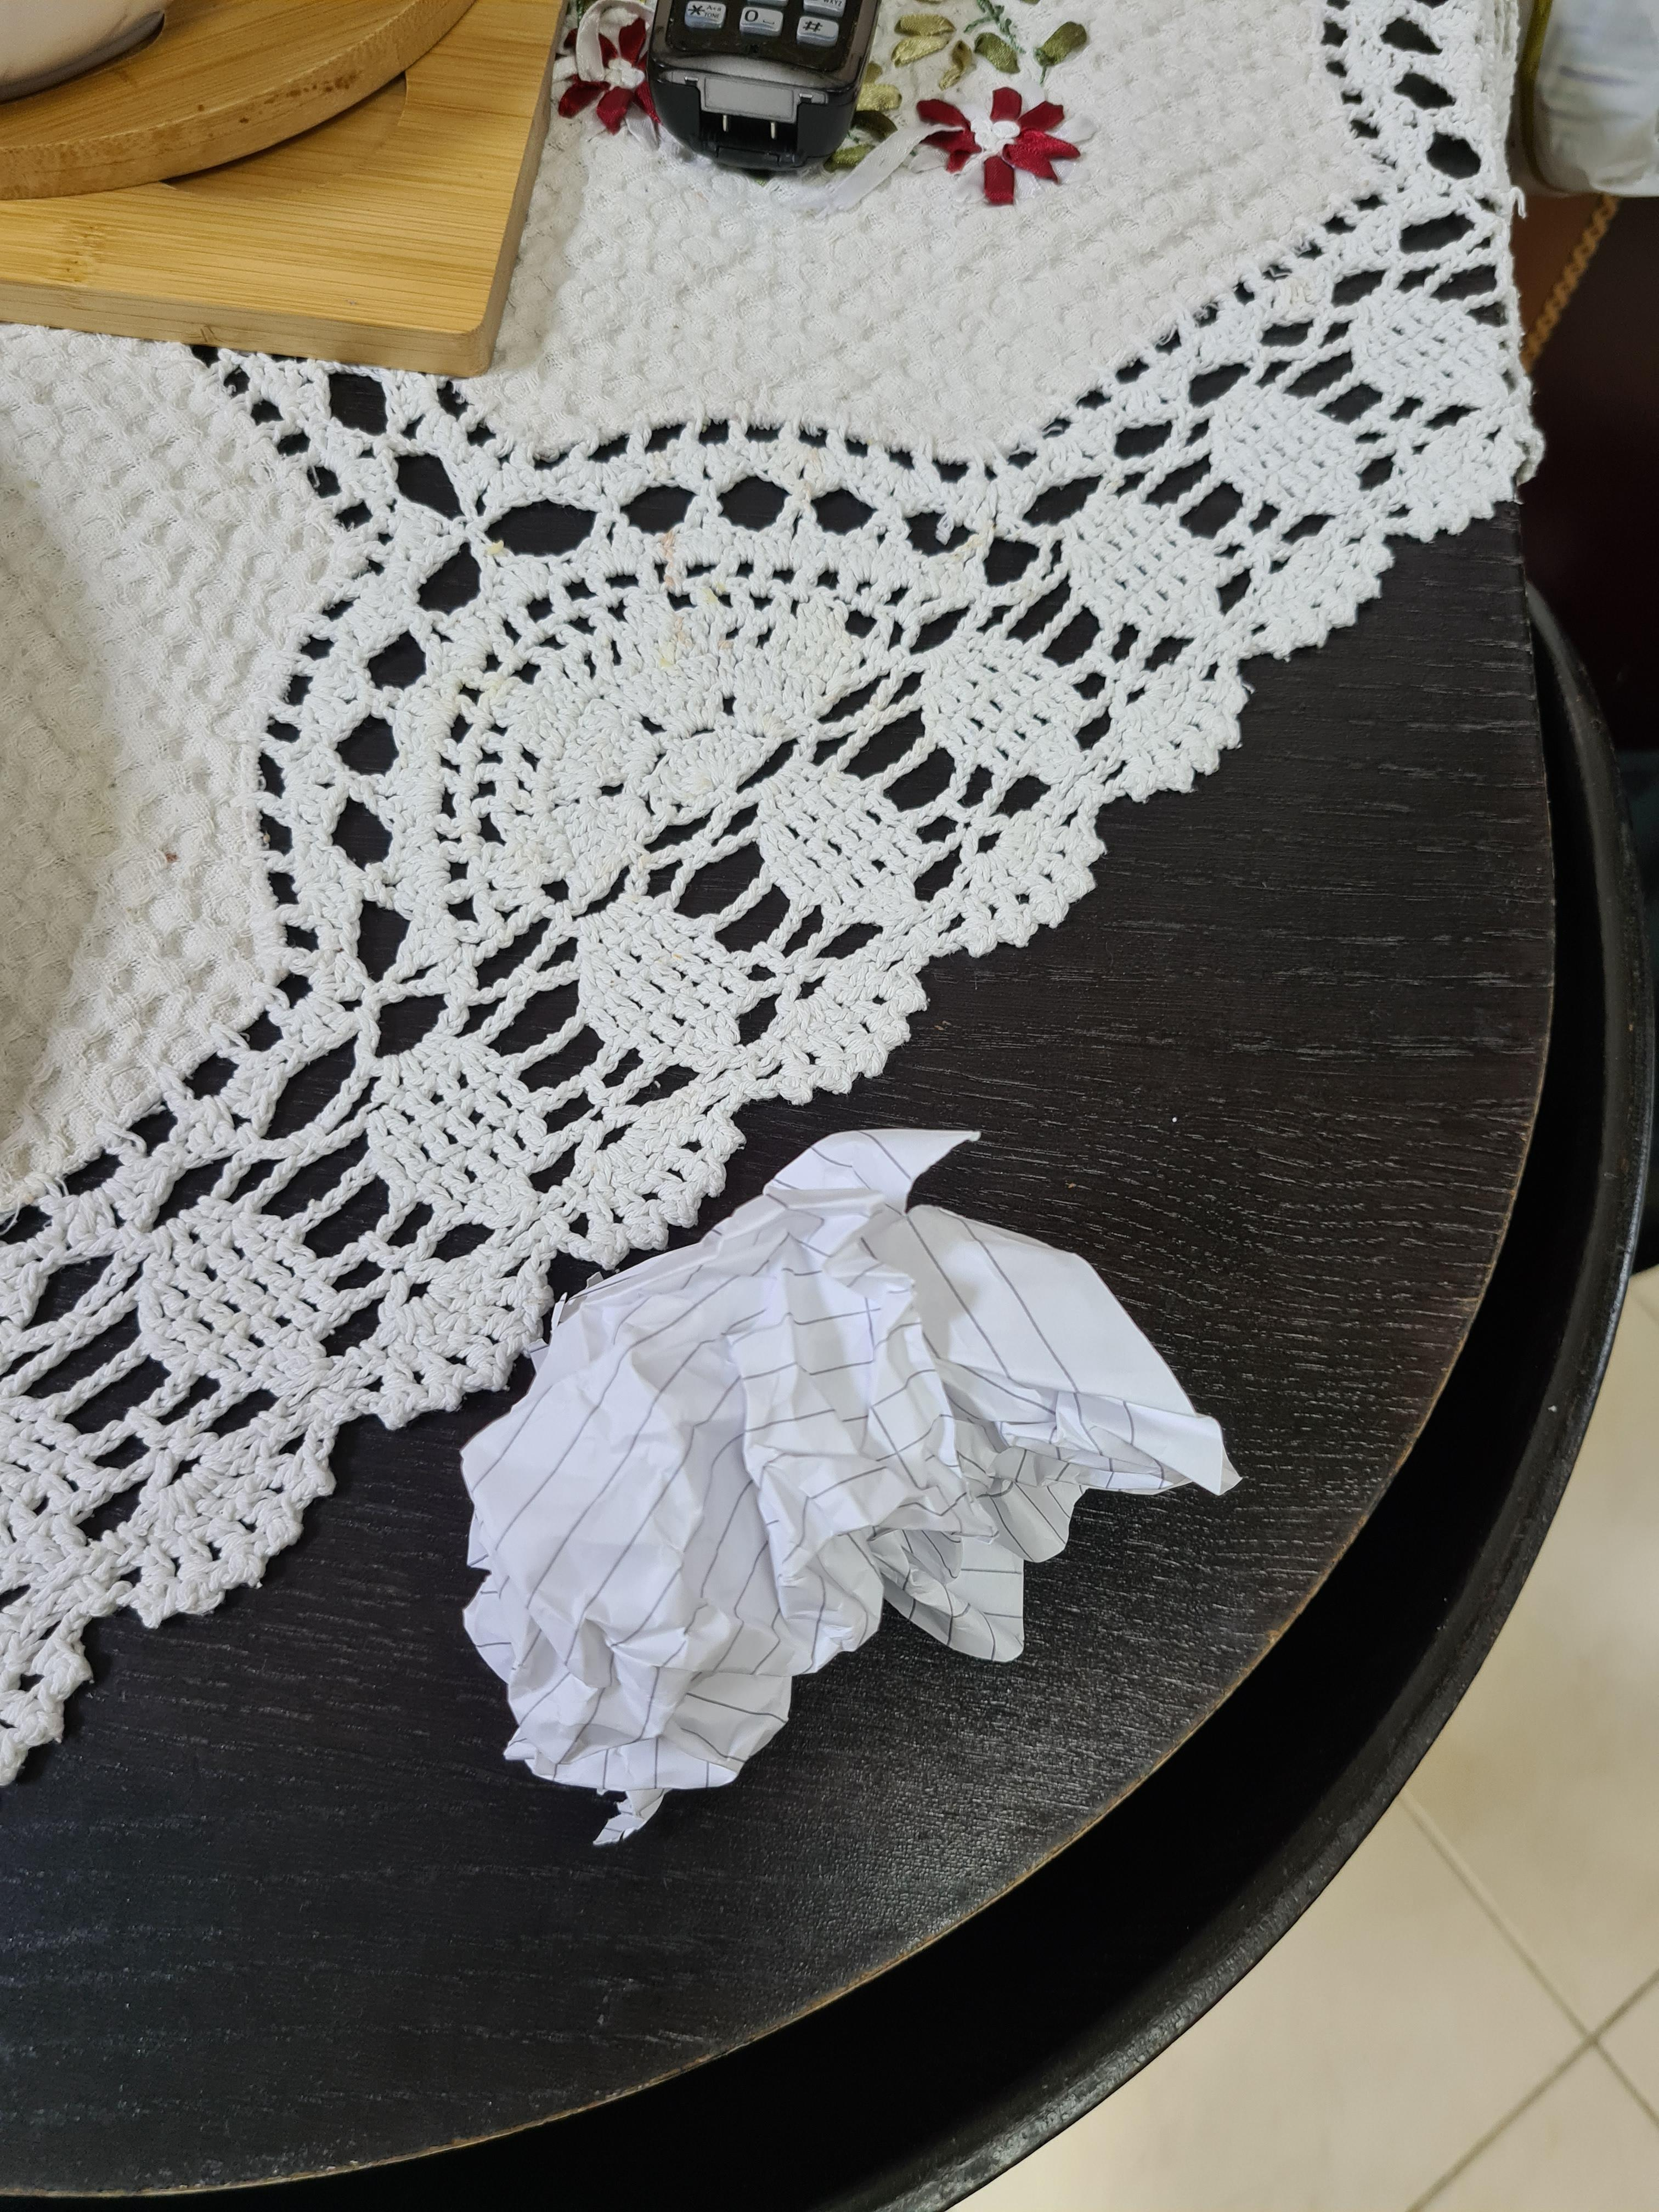Paper: (467, 1137, 1269, 1823)
